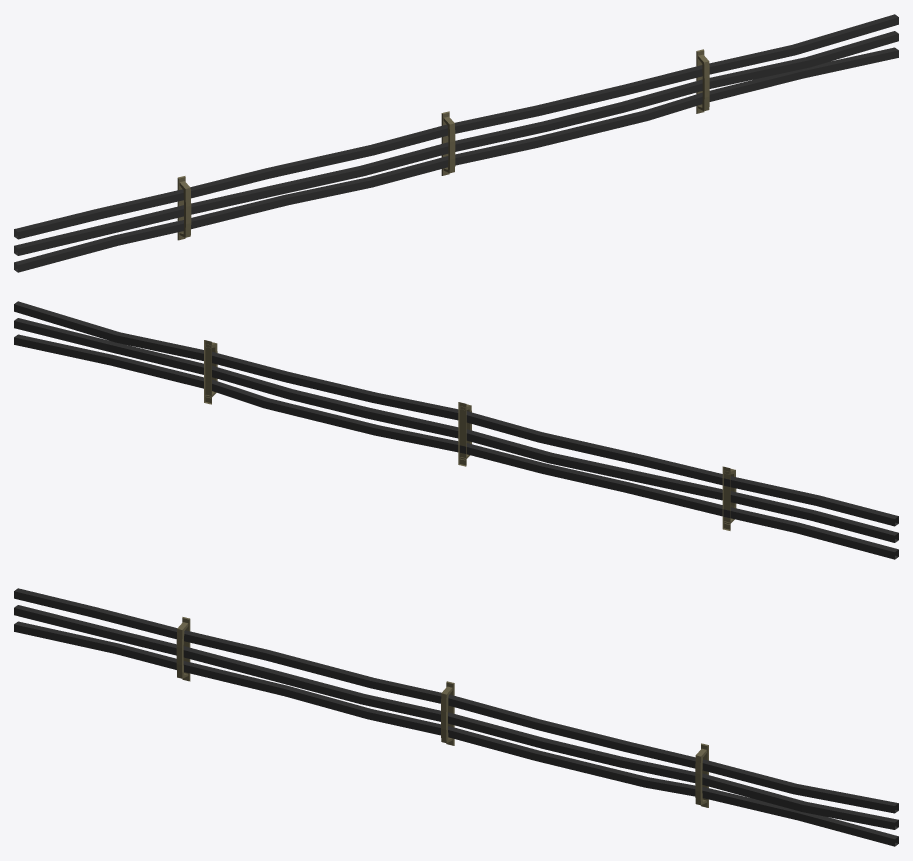
File: SW_ENV_Wires3_StationWall_03_05m.fbx
3 renders of one model, top to bottom at view 1: azimuth 30°, elevation 25°; view 2: azimuth 150°, elevation 25°; view 3: azimuth 330°, elevation 25°, orthographic.
Parts seen in each view (by area): view 1: SW_ENV_Wires3_StationWall_03_05m; view 2: SW_ENV_Wires3_StationWall_03_05m; view 3: SW_ENV_Wires3_StationWall_03_05m.
Part boxes in pixels (x1,y1,x2,y2): SW_ENV_Wires3_StationWall_03_05m: (14,14,898,272); SW_ENV_Wires3_StationWall_03_05m: (14,301,898,559); SW_ENV_Wires3_StationWall_03_05m: (14,588,898,846).
Size of the model in its own units: 500 by 34.12 by 7.06.
